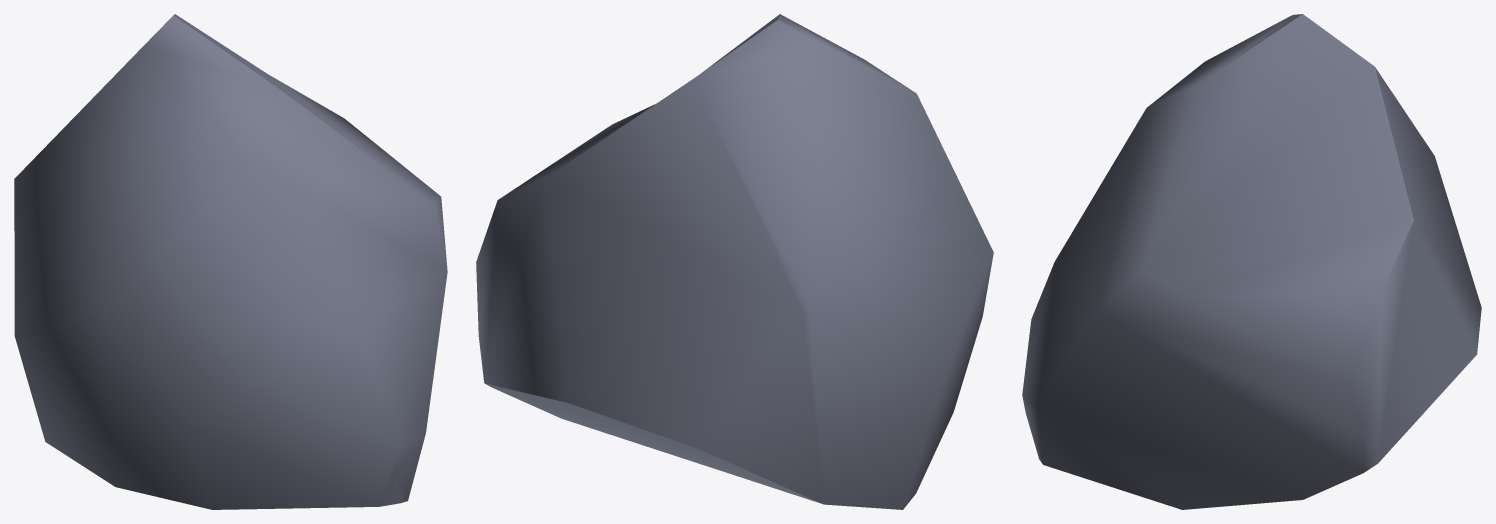
File: Sm_Rocks2L.fbx
3 views of the same model, side by side, from view 1: azimuth 30°, elevation 25°; view 2: azimuth 150°, elevation 25°; view 3: azimuth 270°, elevation 25° (orthographic). The views are drawn at different scales.
Parts seen in each view (by area): view 1: Sm_Rocks2L; view 2: Sm_Rocks2L; view 3: Sm_Rocks2L.
Boxes of the visible parts, x1,y1,x2,y2 form: Sm_Rocks2L: (14, 14, 447, 509); Sm_Rocks2L: (476, 14, 993, 509); Sm_Rocks2L: (1022, 14, 1481, 509).
Size of the model in its own units: 44.12 by 46.56 by 45.3.
